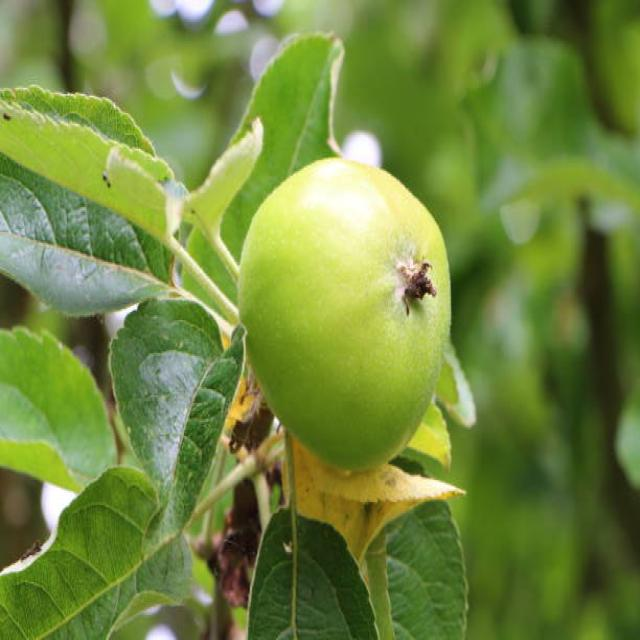Unripe: (239, 157, 449, 470)
